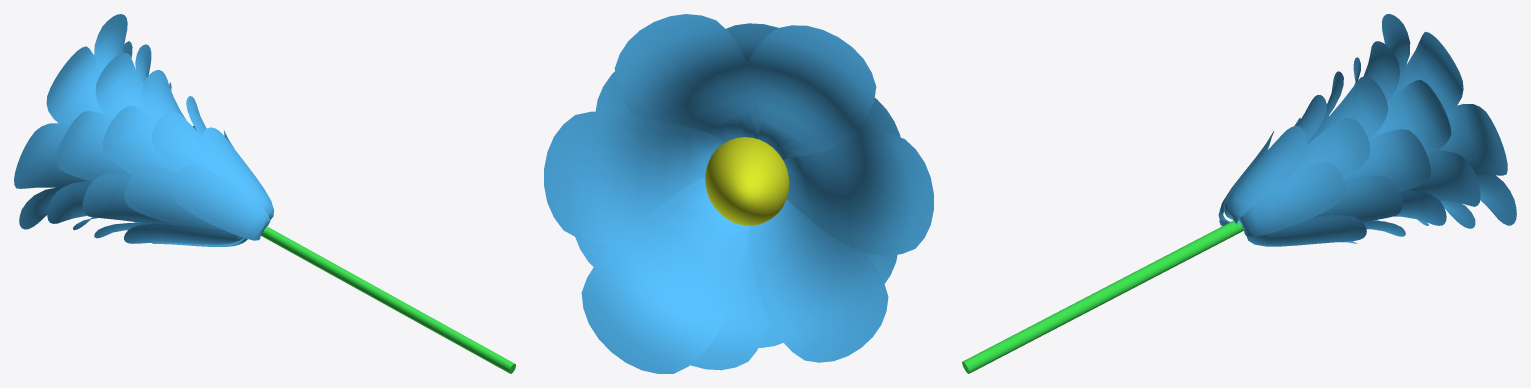
The model's file is flower.glb.
3 views of the same model, side by side, from view 1: azimuth 30°, elevation 25°; view 2: azimuth 150°, elevation 25°; view 3: azimuth 270°, elevation 25° (orthographic). The views are drawn at different scales.
Parts seen in each view (by area): view 1: 円柱; view 2: 円柱; view 3: 円柱.
Part boxes in pixels (bbox=[...]): 円柱: bbox=[14, 14, 515, 373]; 円柱: bbox=[544, 14, 933, 373]; 円柱: bbox=[962, 14, 1516, 373].
Bounding box in the file's own units: 4.46 × 3.32 × 6.73.
